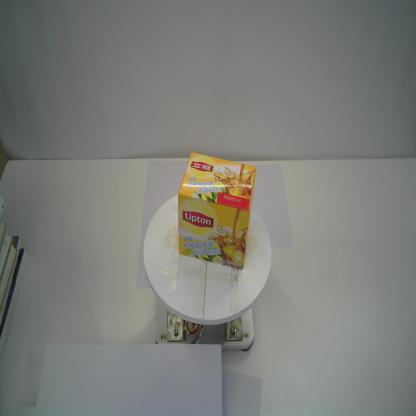Instant Drink: (176, 150, 256, 270)
